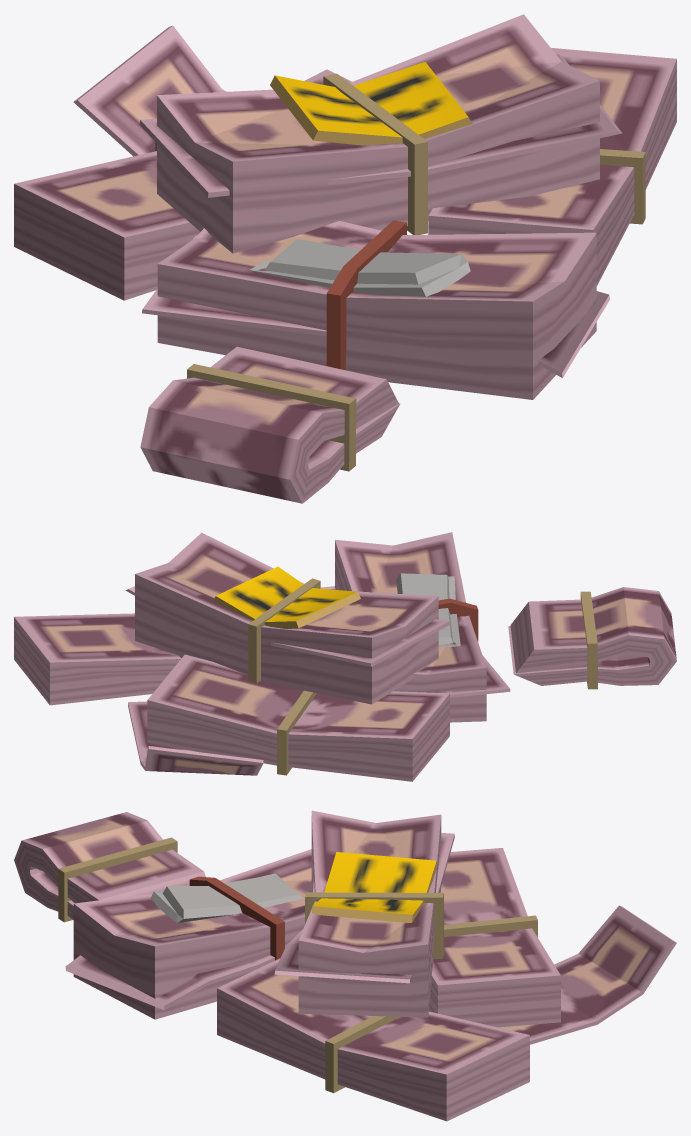
File: SM_Prop_Money_Stack_04.fbx
3 renders of one model, top to bottom at view 1: azimuth 30°, elevation 25°; view 2: azimuth 150°, elevation 25°; view 3: azimuth 270°, elevation 25°, orthographic. The views are drawn at different scales.
Parts seen in each view (by area): view 1: SM_Prop_Money_Stack_04; view 2: SM_Prop_Money_Stack_04; view 3: SM_Prop_Money_Stack_04.
Boxes of the visible parts, bbox=[...] form: SM_Prop_Money_Stack_04: bbox=[14, 14, 676, 503]; SM_Prop_Money_Stack_04: bbox=[14, 532, 676, 781]; SM_Prop_Money_Stack_04: bbox=[14, 810, 676, 1121].
Size of the model in its own units: 57.78 by 12.53 by 58.97.
